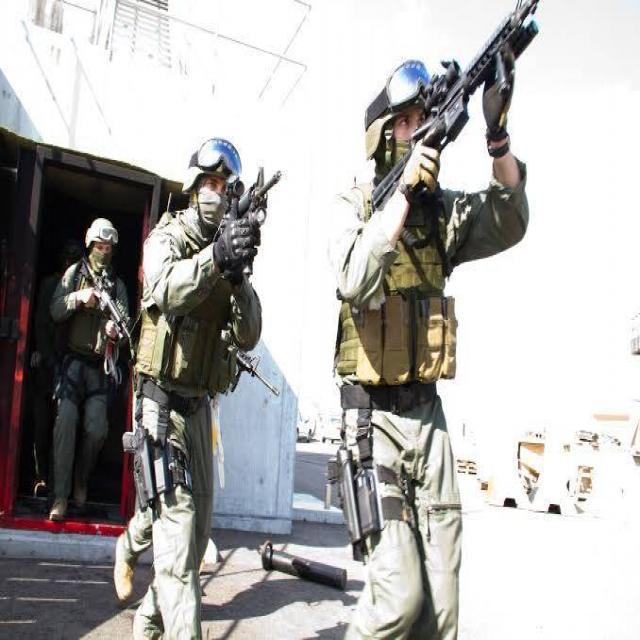m16: (179, 127, 299, 306)
